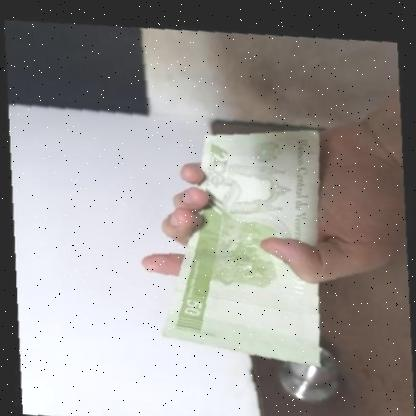fifty-back-vef: (160, 108, 322, 360)
